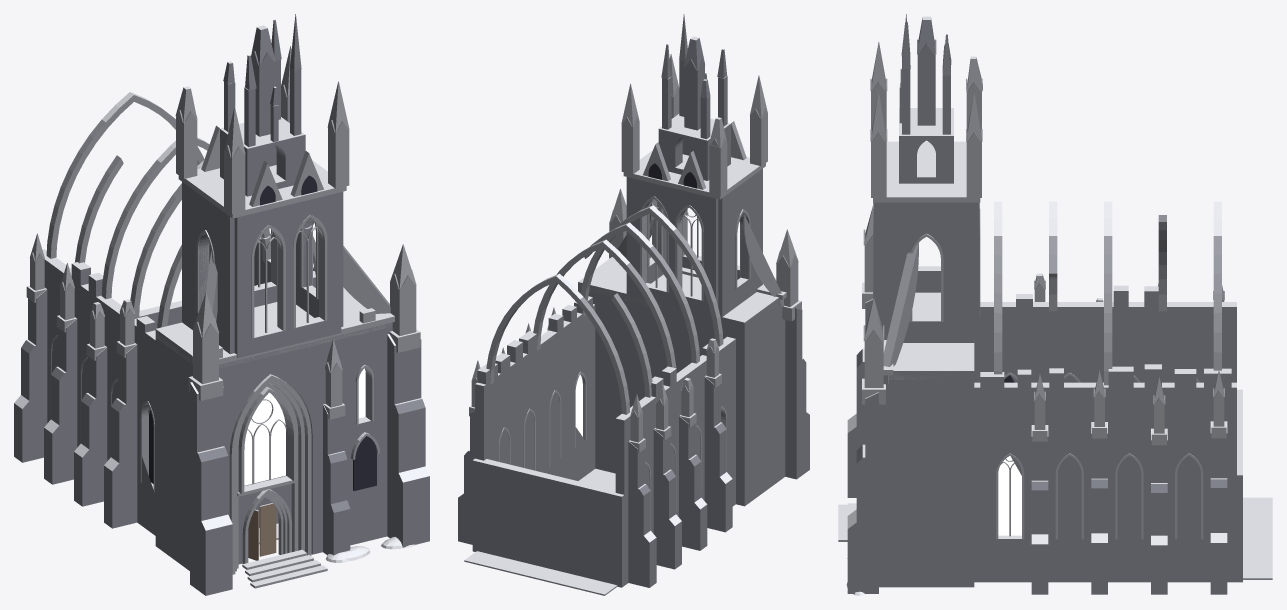
File: AR_Catedral.fbx
3 views of the same model, side by side, from view 1: azimuth 30°, elevation 25°; view 2: azimuth 150°, elevation 25°; view 3: azimuth 270°, elevation 25° (orthographic). The views are drawn at different scales.
Visible parts, largest first — view 1: AR_Catedral; view 2: AR_Catedral; view 3: AR_Catedral.
Boxes of the visible parts, box(x1,y1,x2,y2) form: AR_Catedral: box(14, 14, 429, 595); AR_Catedral: box(458, 14, 809, 595); AR_Catedral: box(838, 14, 1272, 595).
Size of the model in its own units: 21.99 by 49.25 by 36.4.
